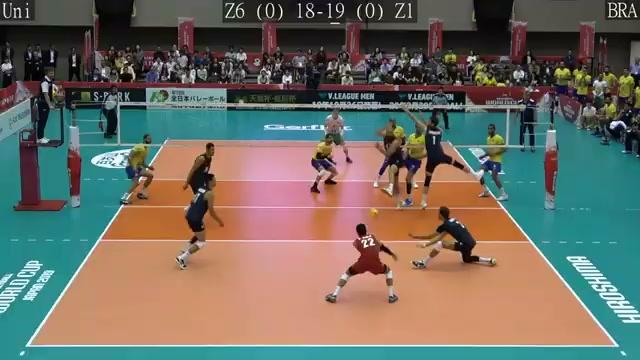ball: (369, 205, 381, 219)
